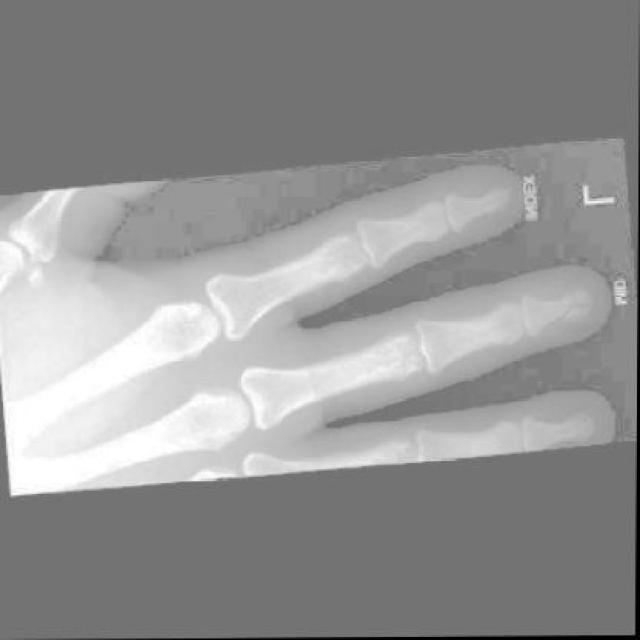bone: (562, 286, 598, 323)
